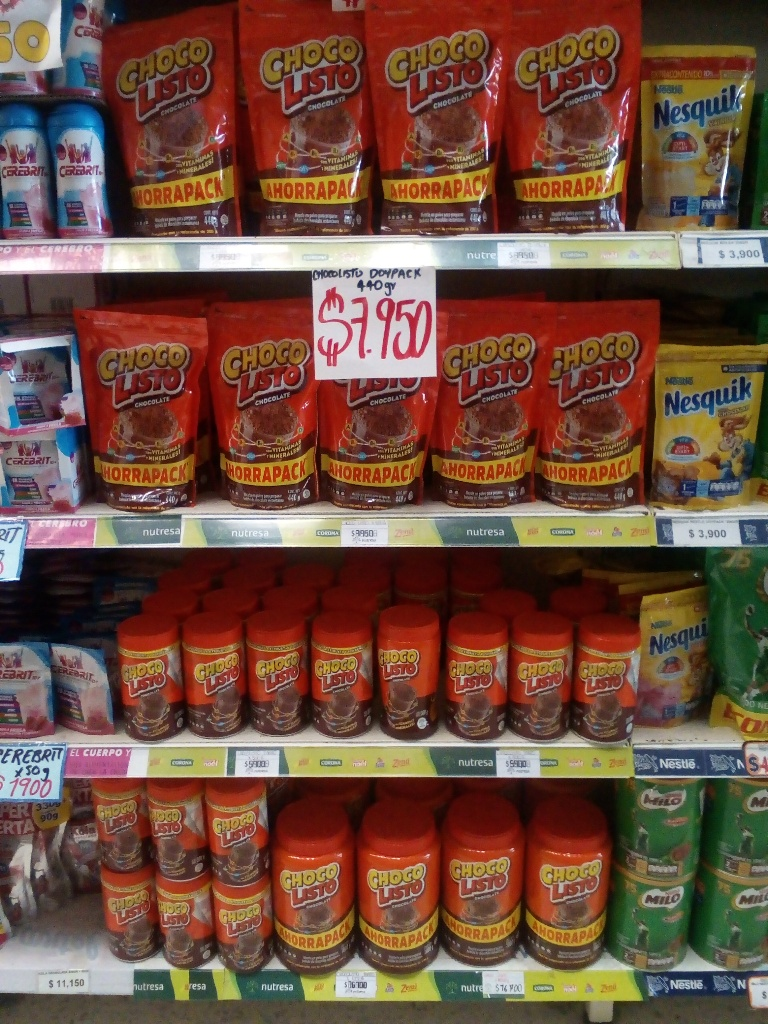COL0170103DYP44000: (111, 7, 240, 233)
COL0170103TRR00100: (274, 791, 365, 974)
COL0170203LAT40000: (619, 780, 706, 878)
COL0170306DYP20000: (657, 331, 768, 514)
